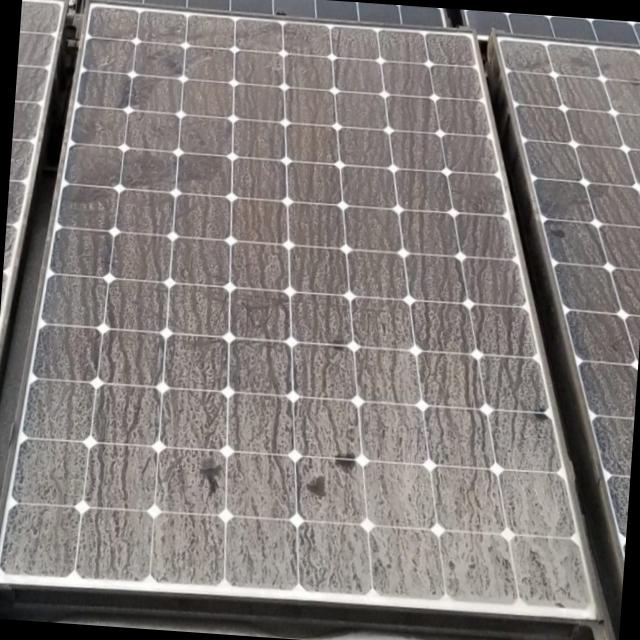faulty: (0, 1, 597, 621), (495, 35, 640, 556), (0, 0, 64, 397)
